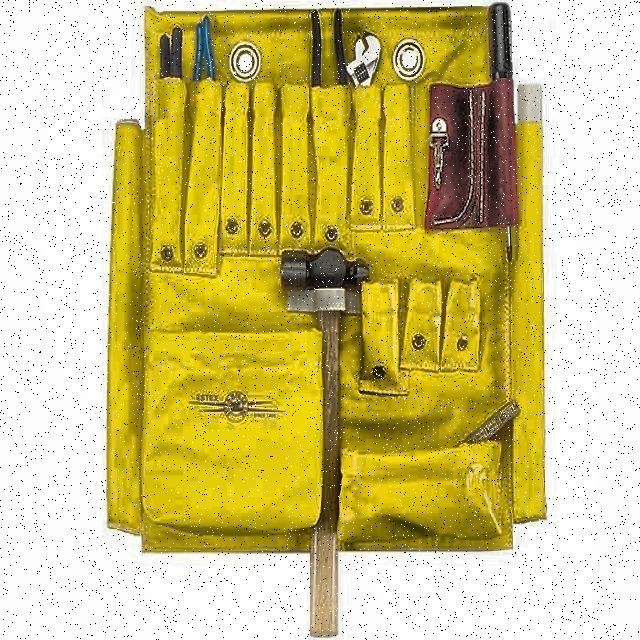hammer: (279, 248, 371, 634)
